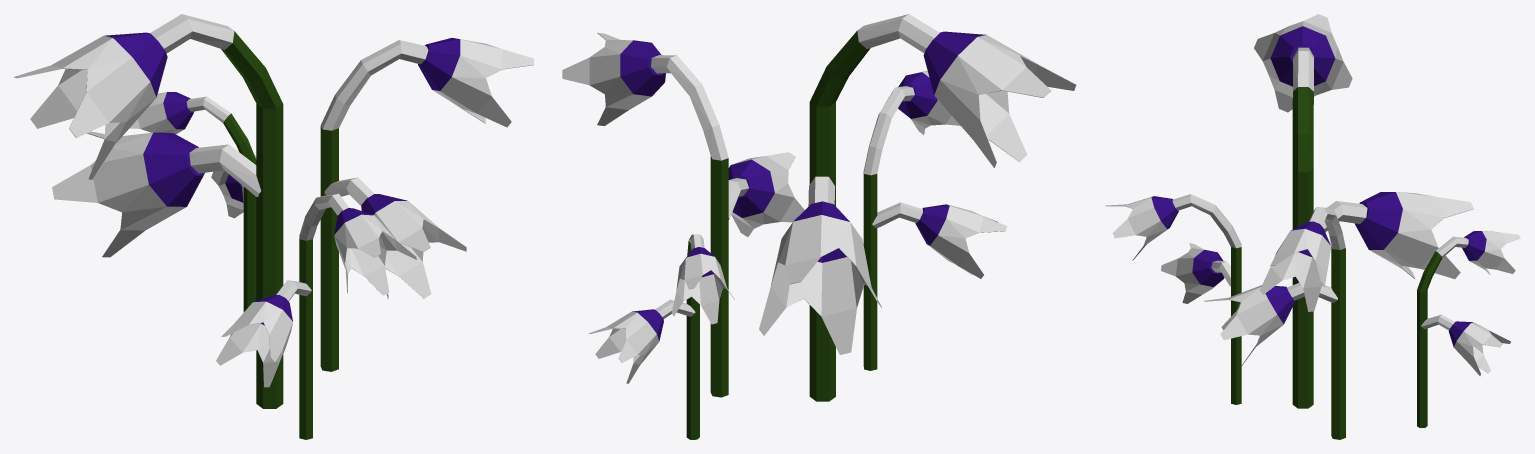
File: Bell_flowerWSnow_01.obj
3 renders of one model, left to right at view 1: azimuth 30°, elevation 25°; view 2: azimuth 150°, elevation 25°; view 3: azimuth 270°, elevation 25°, orthographic. The views are drawn at different scales.
Visible parts, largest first — view 1: Bell_flowersWSnow_01_Circle.004; view 2: Bell_flowersWSnow_01_Circle.004; view 3: Bell_flowersWSnow_01_Circle.004.
Part boxes in pixels (x1,y1,x2,y2): Bell_flowersWSnow_01_Circle.004: (14, 14, 533, 439); Bell_flowersWSnow_01_Circle.004: (562, 14, 1076, 439); Bell_flowersWSnow_01_Circle.004: (1105, 14, 1520, 439).
Size of the model in its own units: 1.4 by 1.1 by 1.29.
